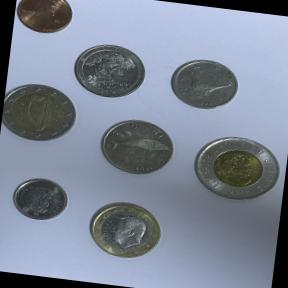1 Euro-B: (78, 194, 172, 268)
2 Euro-B: (0, 77, 81, 147)
Canada-10cent-B: (7, 171, 76, 228)
Canada-2Dollar-B: (185, 126, 288, 211)
Croatia-2Kune-B: (92, 113, 184, 186)
US-1cent-B: (12, 0, 82, 42)
US-25cent-B: (67, 38, 152, 104)
